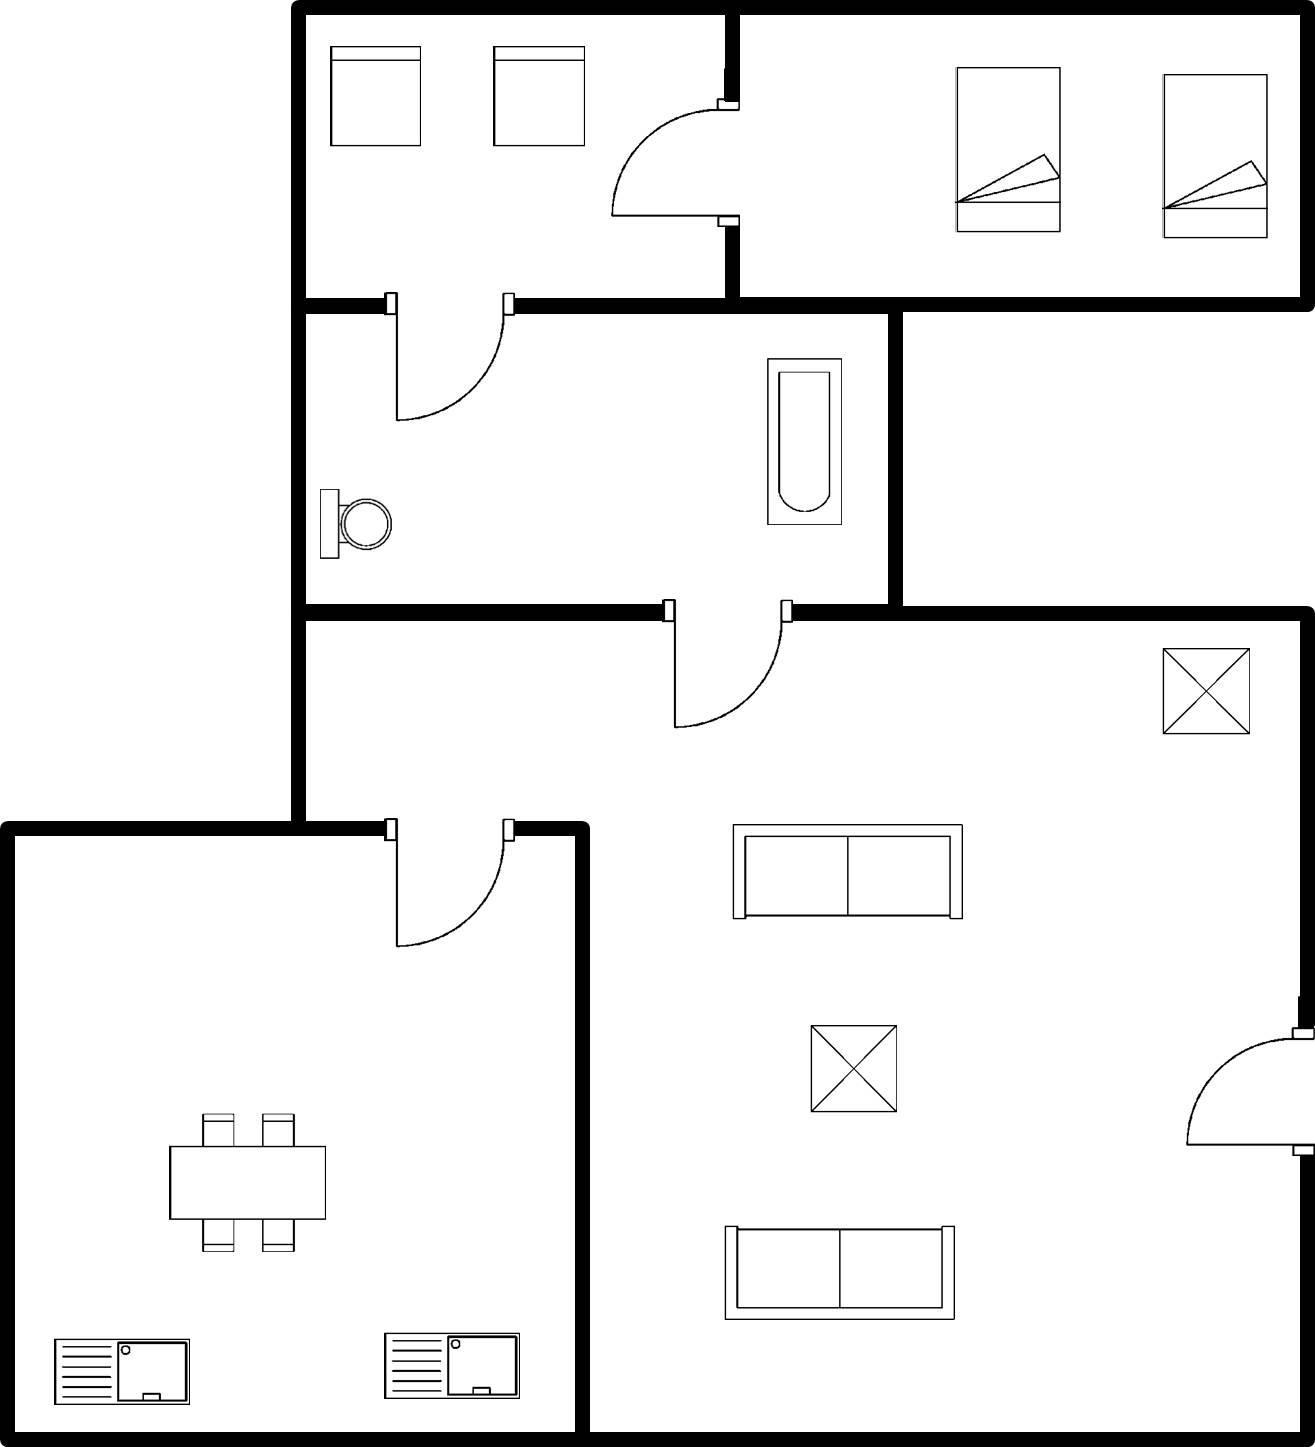bed: (1154, 61, 1278, 247), (946, 53, 1068, 241)
dining_table: (160, 1103, 337, 1260)
sink: (43, 1329, 198, 1412), (374, 1323, 526, 1405)
sofa: (714, 1213, 965, 1332), (722, 810, 970, 926)
toilet: (311, 478, 396, 570)
tub: (762, 347, 850, 537)
